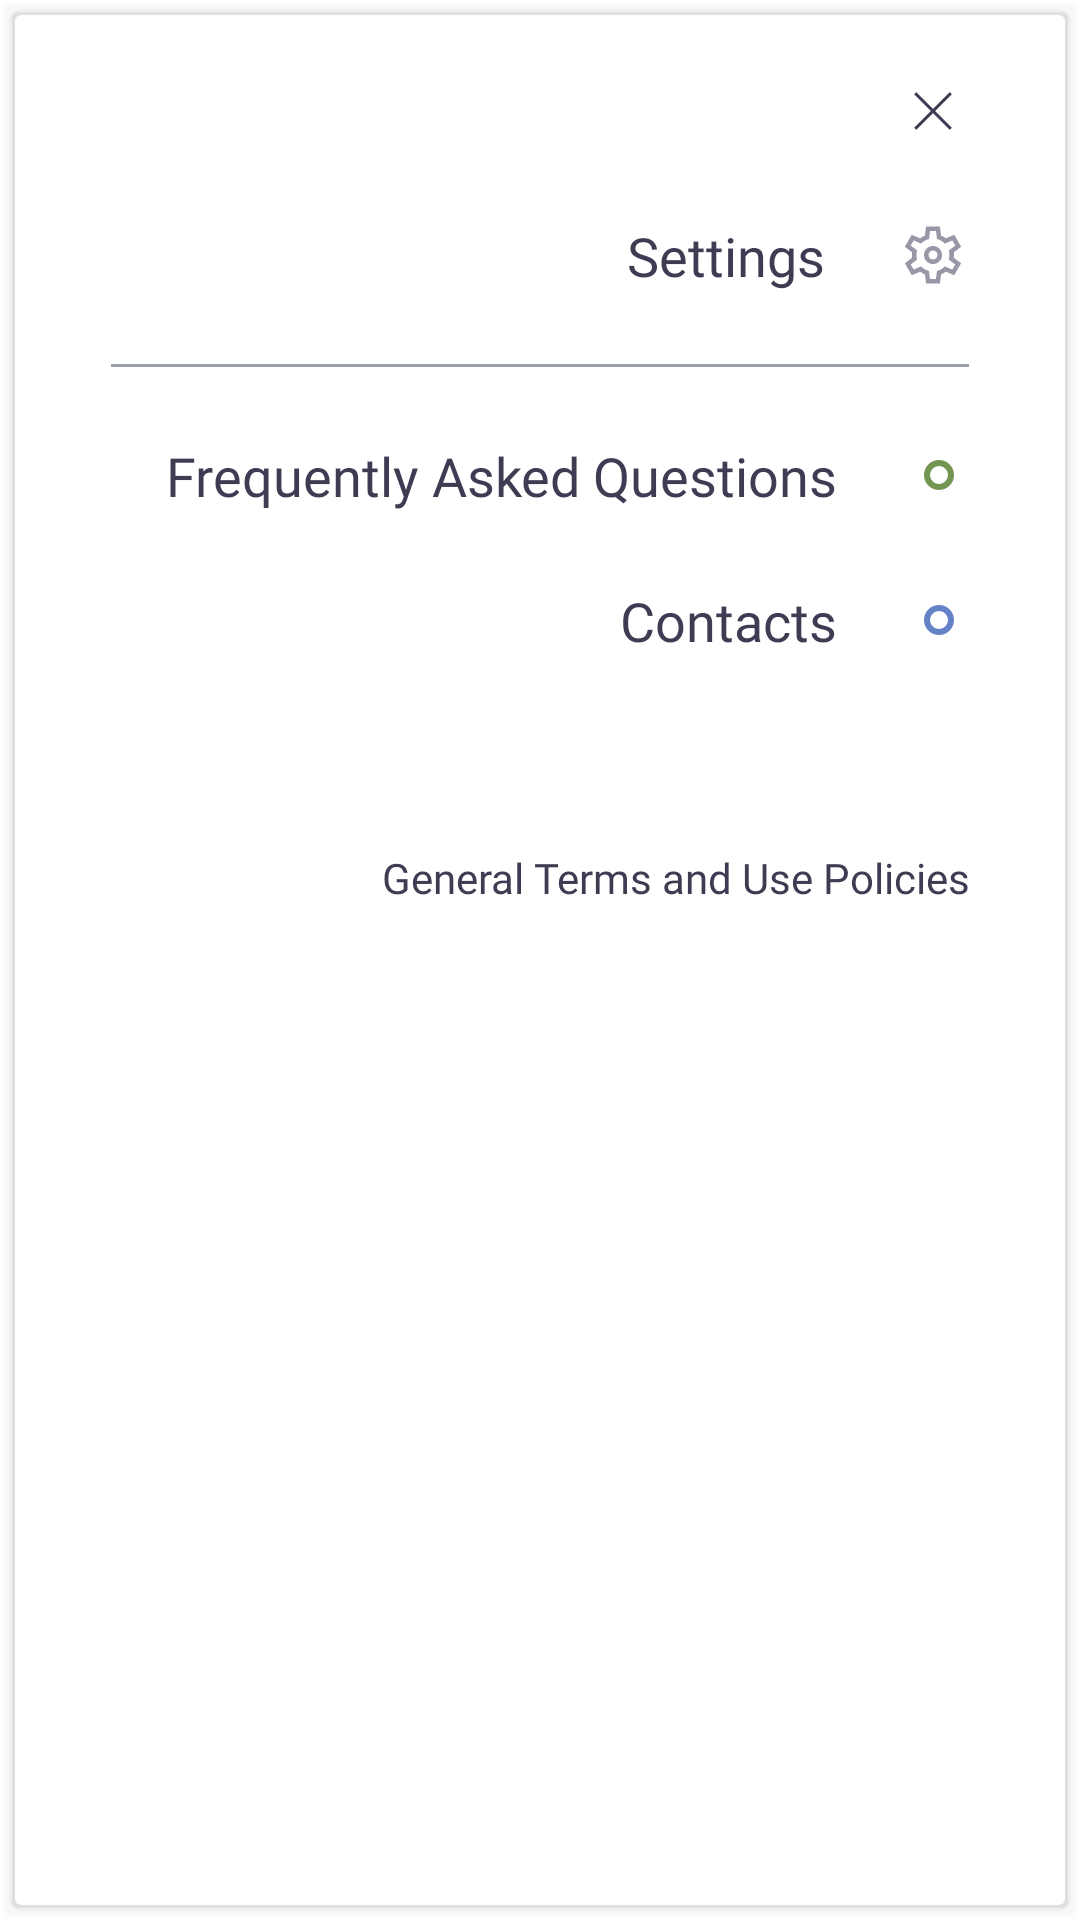

Locate icon controls on the screen. Image size 1080px x 1920px, boxes as (x1, y1, x2, y2).
close: (914, 92, 952, 130)
